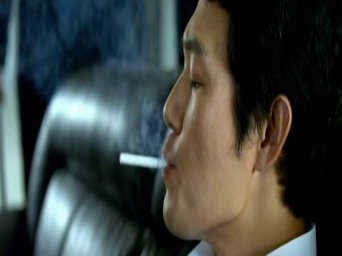smoke: (118, 150, 167, 170)
